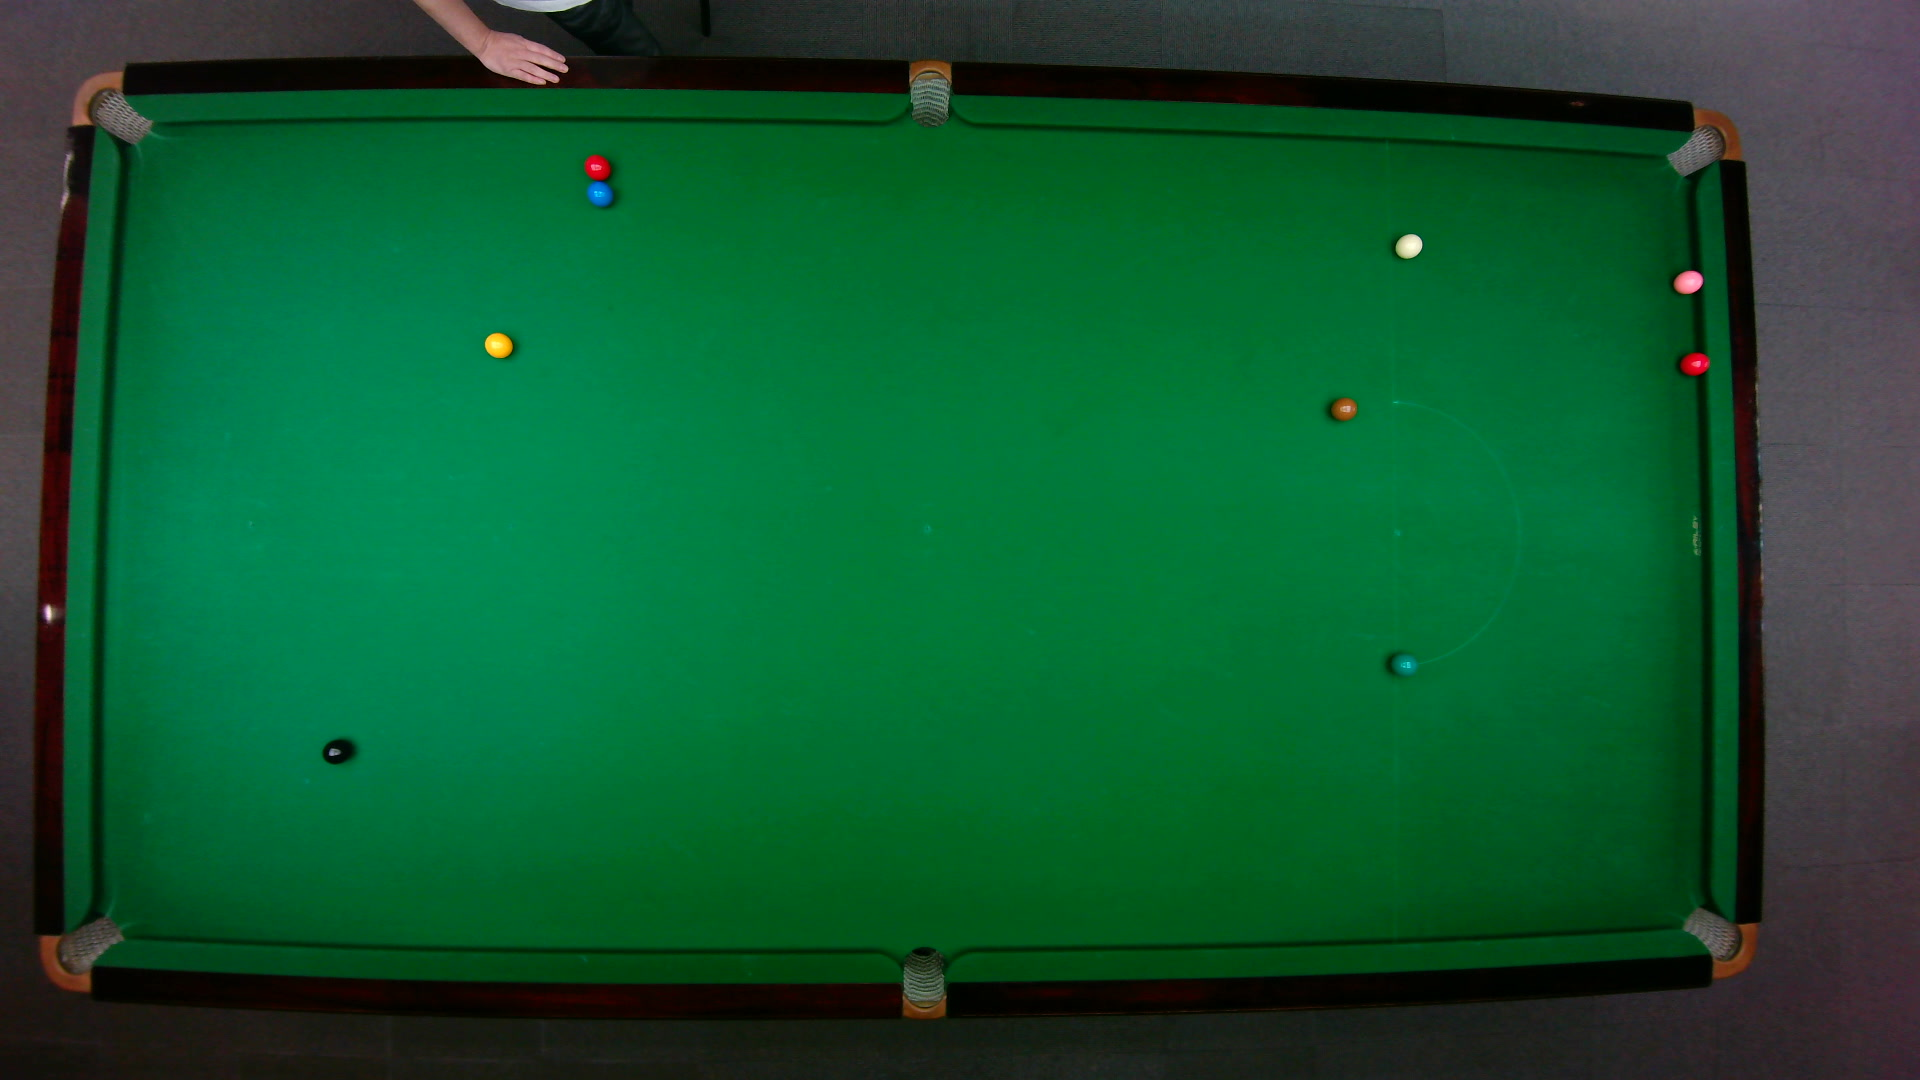bag: (37, 913, 125, 992), (69, 69, 152, 145), (1677, 905, 1756, 978), (1663, 107, 1741, 177), (901, 944, 944, 1021), (909, 57, 949, 127)
black: (320, 736, 352, 765)
blue: (585, 179, 613, 207)
green: (1389, 650, 1418, 676)
pink: (1671, 268, 1704, 295)
red: (483, 328, 514, 359), (1677, 349, 1712, 376), (582, 153, 612, 179), (1328, 396, 1360, 421)
white: (1393, 232, 1423, 258)
zone: (1390, 398, 1520, 666)
